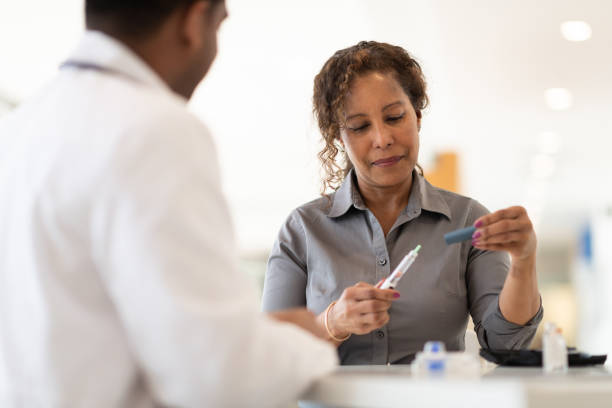face: (340, 91, 419, 186)
